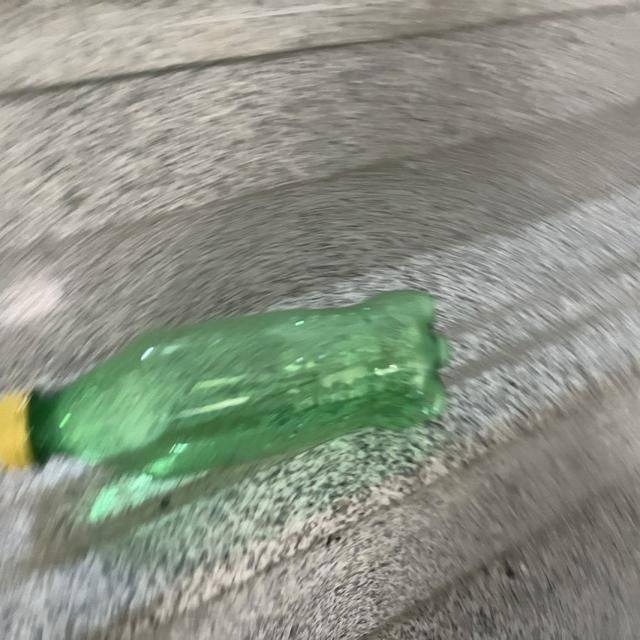empty: (0, 290, 448, 478)
